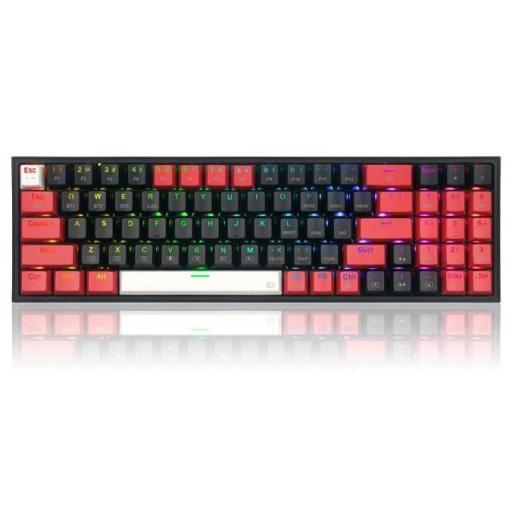keyboard: (0, 157, 500, 305)
